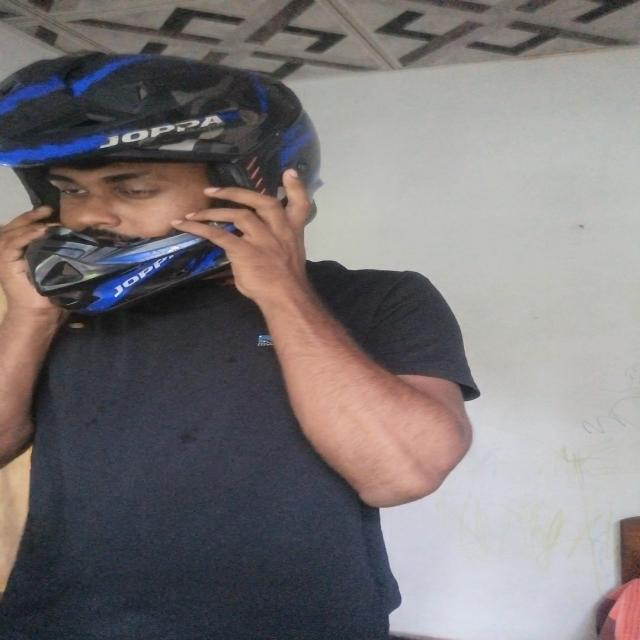Helmet_Wearer: (2, 40, 375, 322)
Person: (8, 32, 502, 640)
